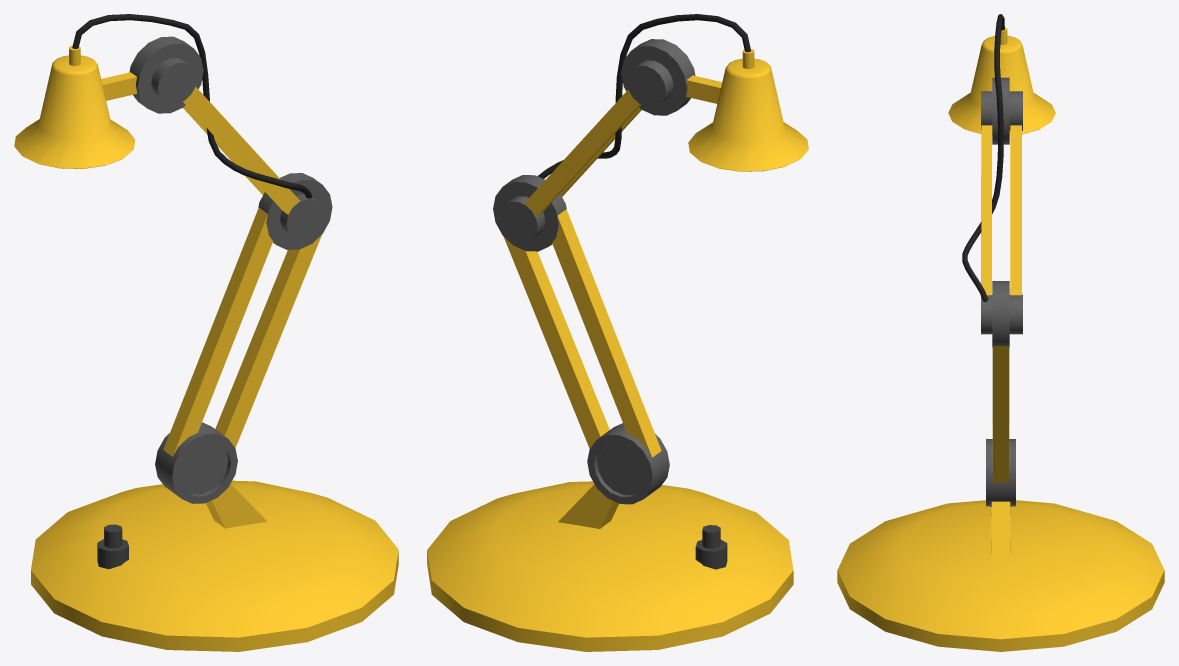
Rendered from Office Lamp03.fbx.
3 renders of one model, left to right at view 1: azimuth 30°, elevation 25°; view 2: azimuth 150°, elevation 25°; view 3: azimuth 270°, elevation 25°, orthographic. The views are drawn at different scales.
Visible parts, largest first — view 1: Office Lamp03; view 2: Office Lamp03; view 3: Office Lamp03.
Part boxes in pixels (x1=…): Office Lamp03: x1=14, y1=14, x2=398, y2=651; Office Lamp03: x1=427, y1=14, x2=808, y2=651; Office Lamp03: x1=837, y1=14, x2=1164, y2=651.
Size of the model in its own units: 0.2267 by 0.2063 by 0.3595.
